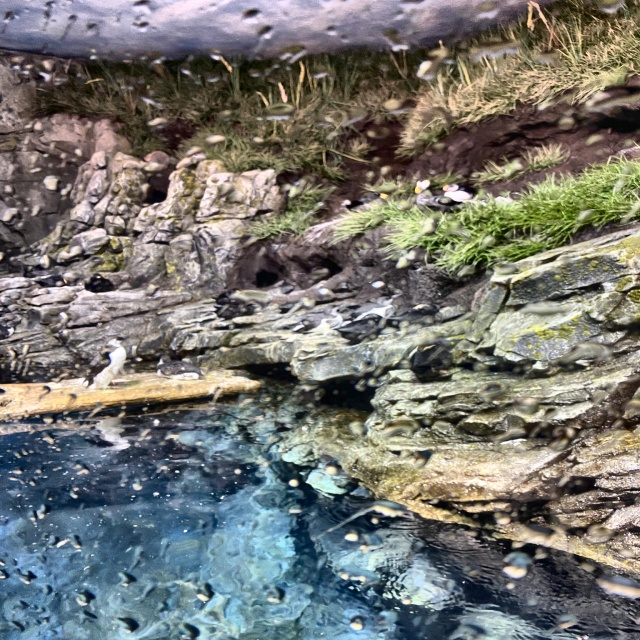puffin: (158, 354, 204, 380), (440, 184, 476, 206), (415, 179, 442, 208), (84, 272, 114, 291), (35, 275, 69, 288)
starfish: (82, 336, 127, 390)
